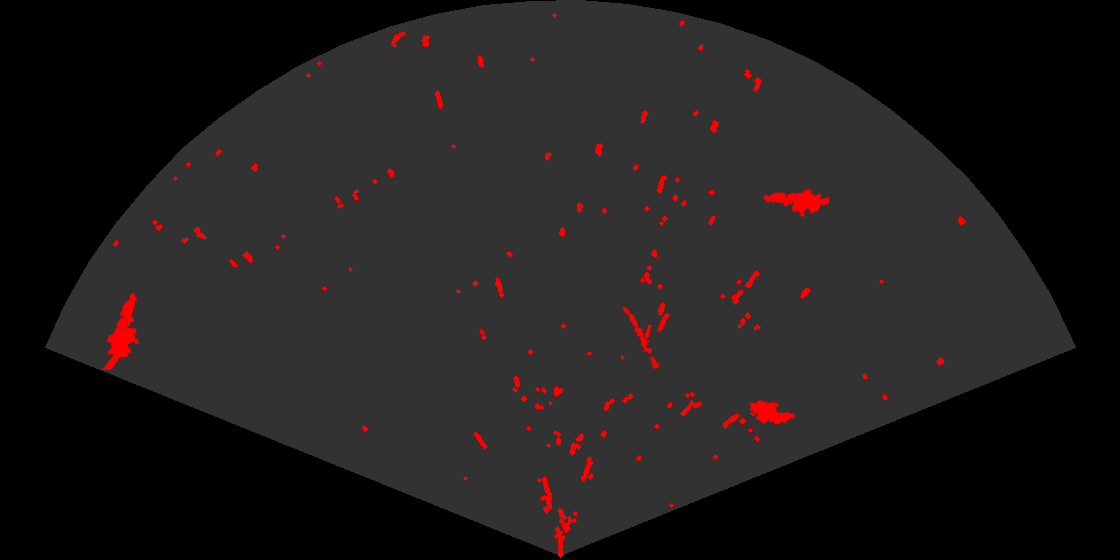AUV: (748, 399, 797, 426)
chain: (618, 296, 661, 372)
frogman: (101, 291, 141, 370), (761, 187, 829, 219)
